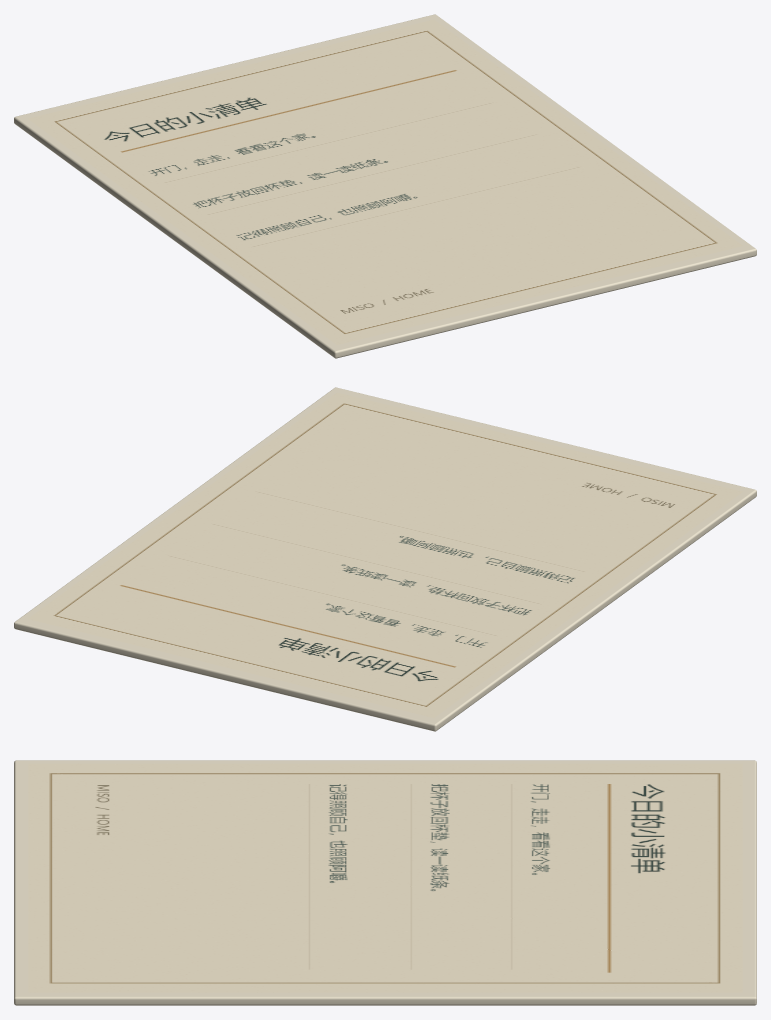
Rendered from memo.glb.
3 renders of one model, top to bottom at view 1: azimuth 30°, elevation 25°; view 2: azimuth 150°, elevation 25°; view 3: azimuth 270°, elevation 25°, orthographic. The views are drawn at different scales.
Visible parts, largest first — view 1: memo; view 2: memo; view 3: memo.
Boxes of the visible parts, left/top/right/bottom form: memo: left=14, top=14, right=756, bottom=358; memo: left=14, top=387, right=756, bottom=731; memo: left=14, top=760, right=756, bottom=1005.
Bounding box in the file's own units: 0.235 × 0.0042 × 0.31.
2 materials, 1 textured.
